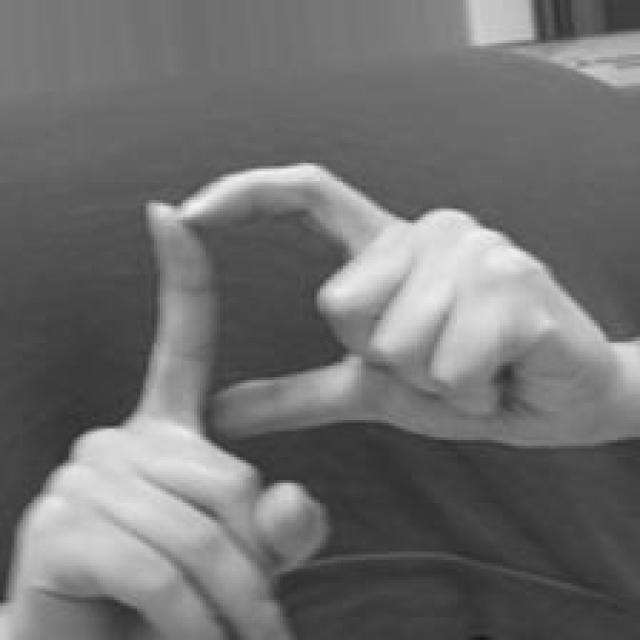D: (10, 158, 602, 640)
